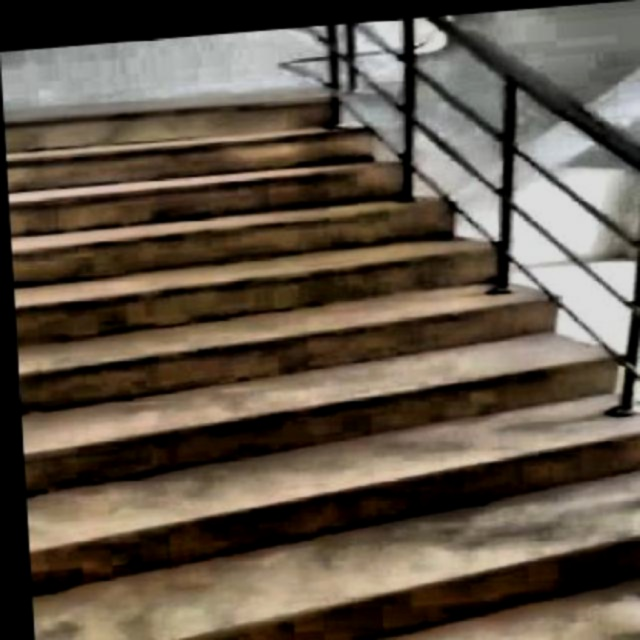stair: (3, 65, 640, 639)
